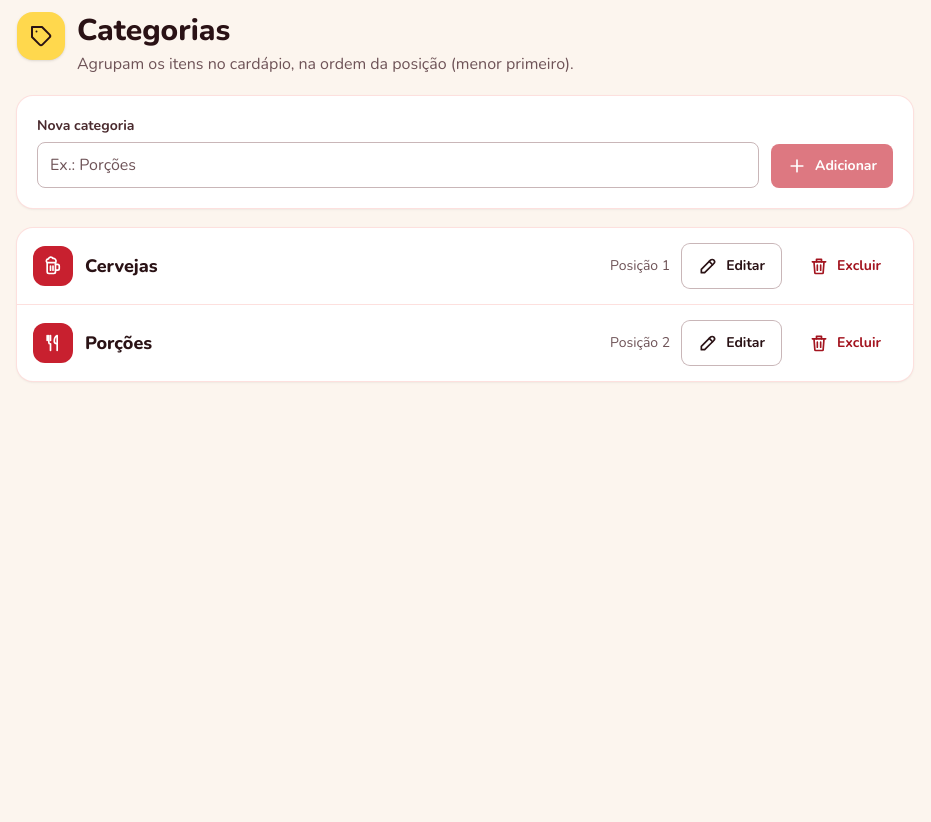
Test: CategoriesPage › edita nome e posição
The width and height of the screenshot is (931, 822).
Click the button with aria-label "Editar Cervejas" at (732, 266), box 682,244 -> 781,288
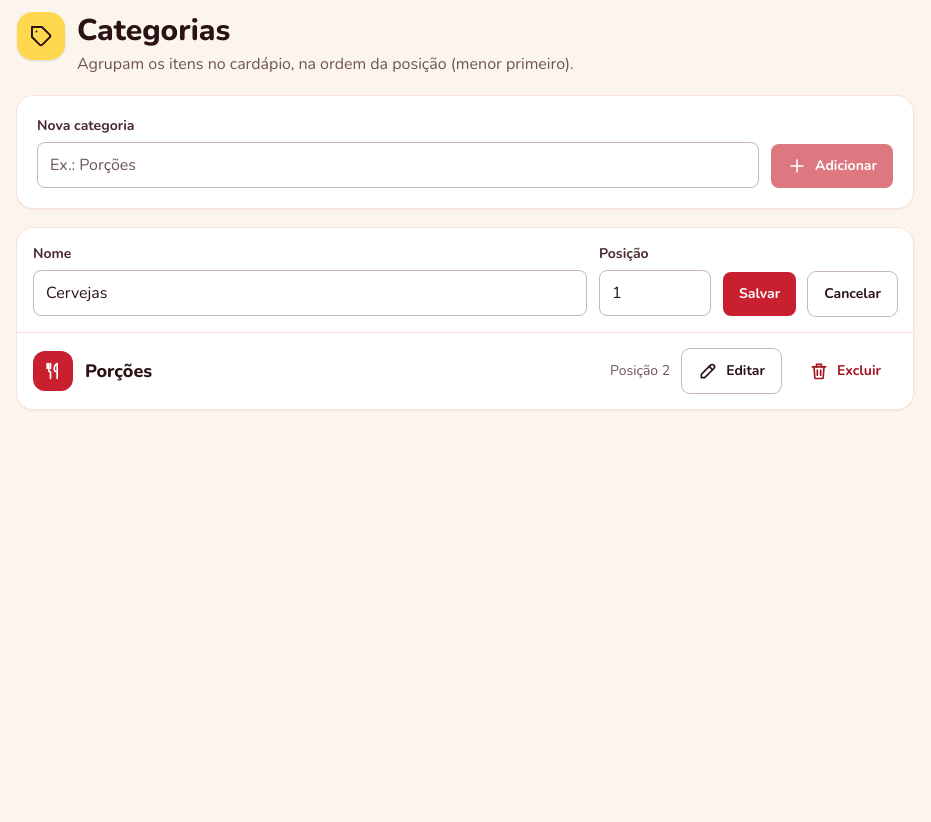
Replace the text in the field labelled "Nome" with "Cervejas Geladas" at (310, 292), box 33,270 -> 587,316
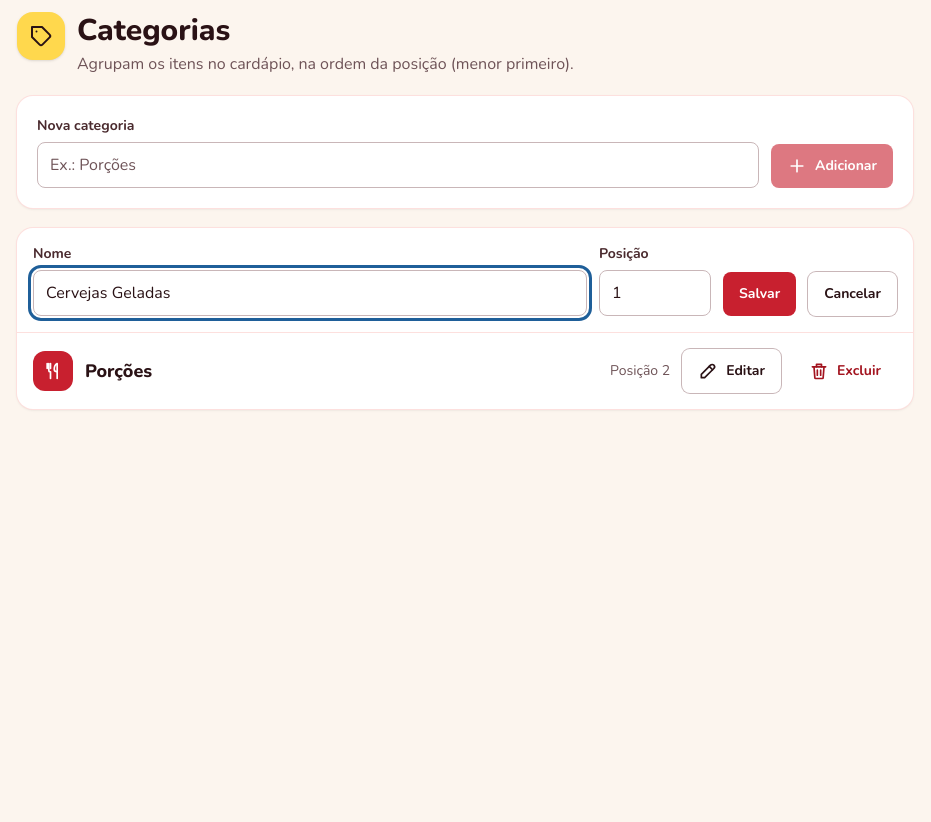
Replace the text in the number field labelled "Posição" with "5" at (655, 292), box 599,270 -> 711,316
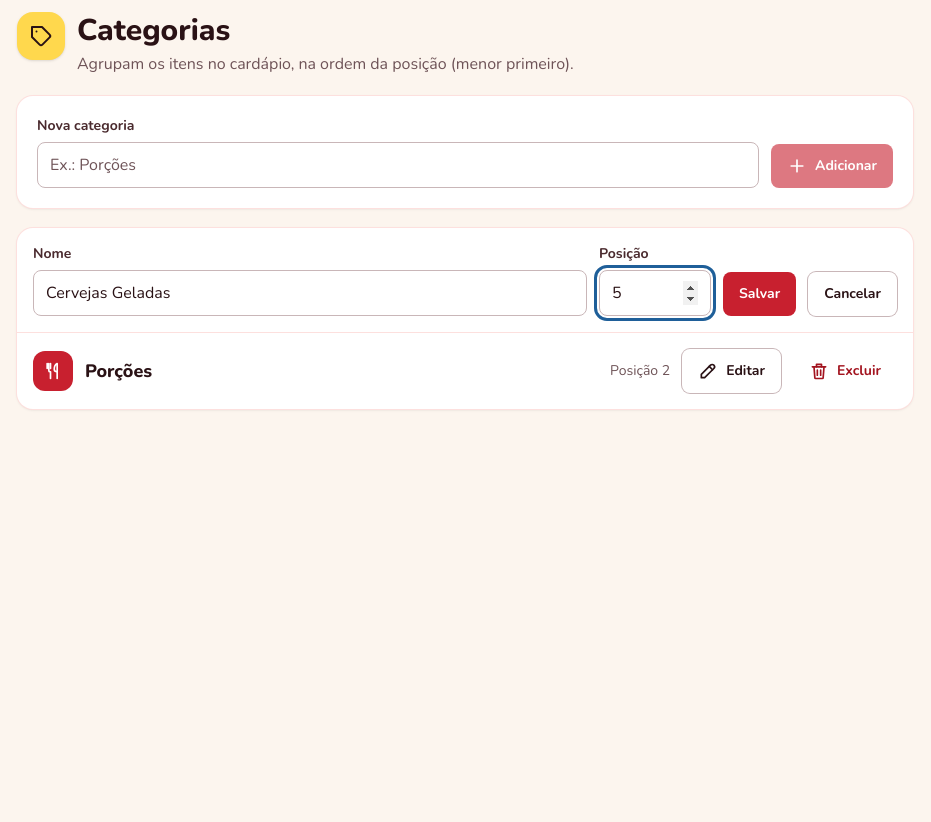
Click the button "Salvar" at (760, 294), box 723,272 -> 796,316
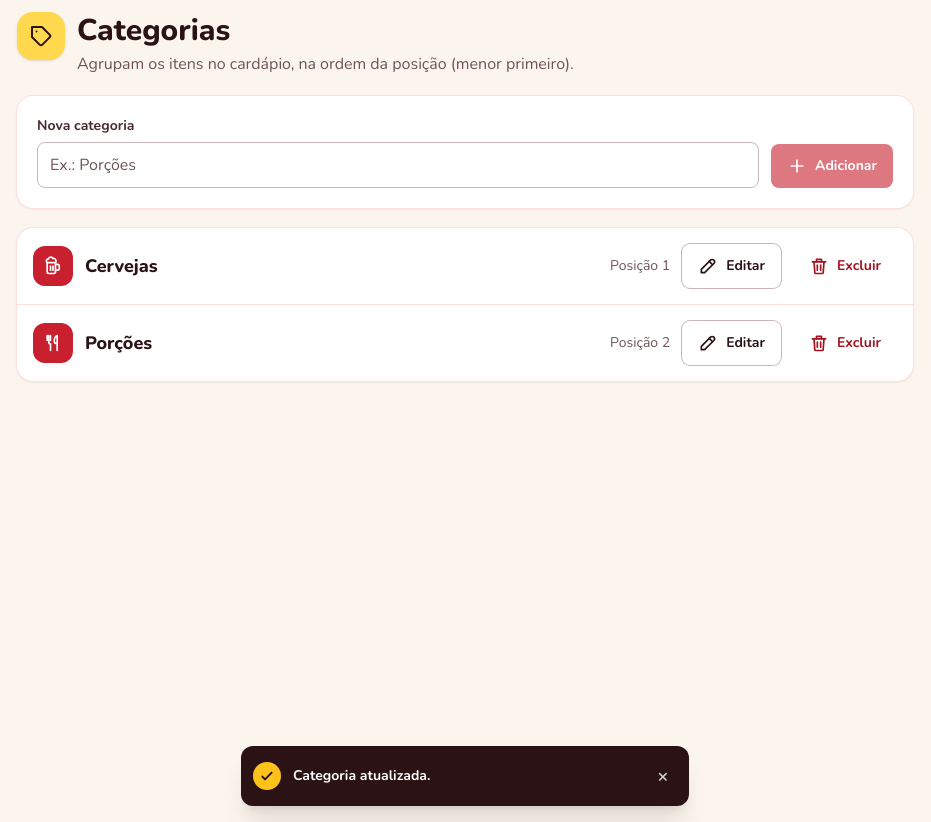
Now the text "Categoria atualizada." is shown, box 293,766 -> 430,785
